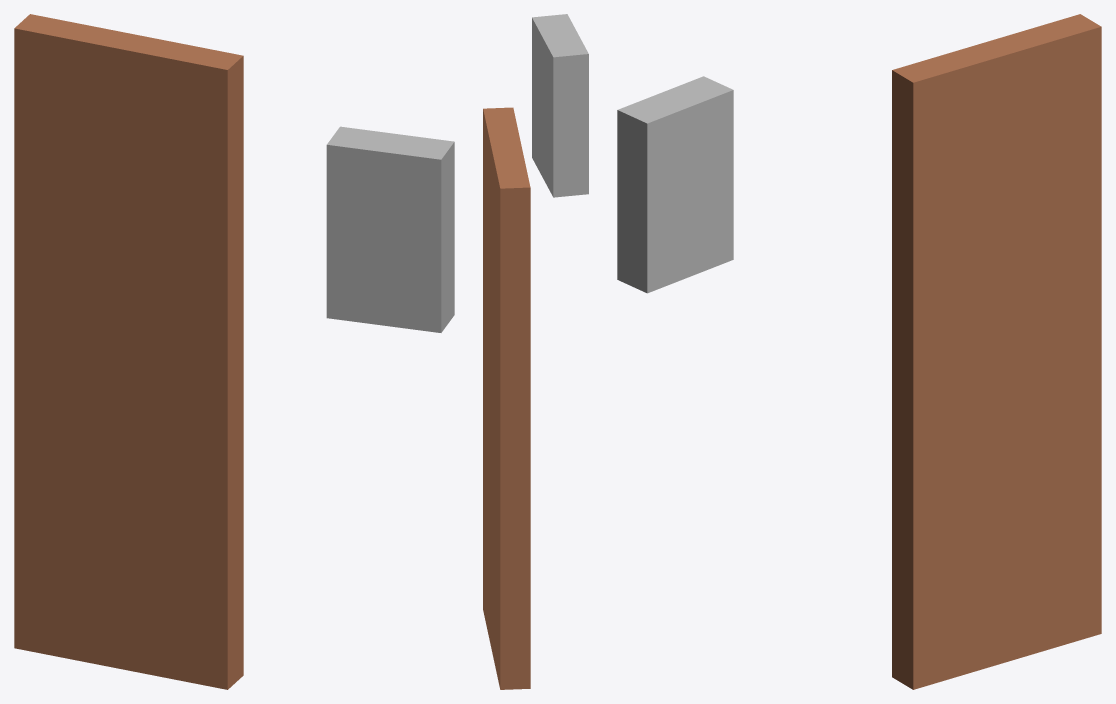
Rendered from Hache.glb.
3 views of the same model, side by side, from view 1: azimuth 30°, elevation 25°; view 2: azimuth 150°, elevation 25°; view 3: azimuth 270°, elevation 25° (orthographic). The views are drawn at different scales.
Parts seen in each view (by area): view 1: mesh_id27, mesh_id29; view 2: mesh_id27, mesh_id29; view 3: mesh_id27, mesh_id29.
Boxes of the visible parts, bbox=[...] form: mesh_id27: bbox=[14, 14, 243, 689]; mesh_id29: bbox=[326, 126, 454, 332]; mesh_id27: bbox=[483, 107, 530, 689]; mesh_id29: bbox=[532, 14, 588, 197]; mesh_id27: bbox=[892, 14, 1101, 689]; mesh_id29: bbox=[617, 76, 733, 293].
Bounding box in the file's own units: 0.0966 × 0.2609 × 0.1885.
Materials: 2 (2 with a texture image).
